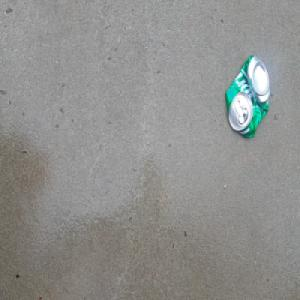SodaCan: (223, 55, 271, 142)
